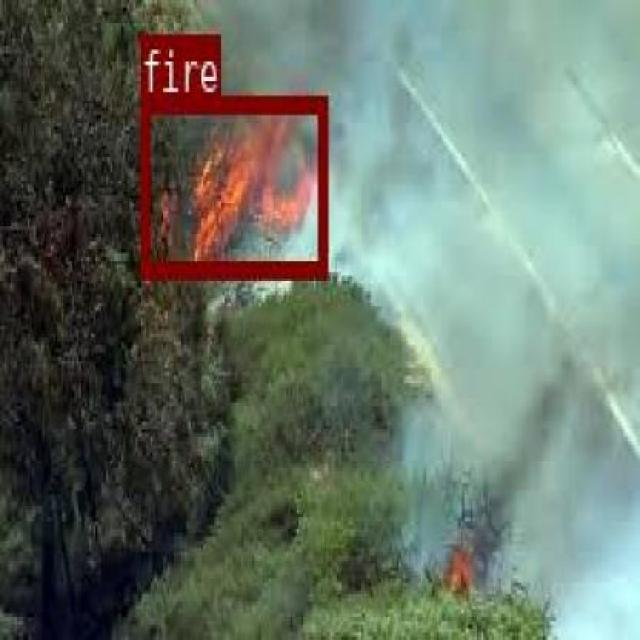Fire: (139, 94, 327, 272)
